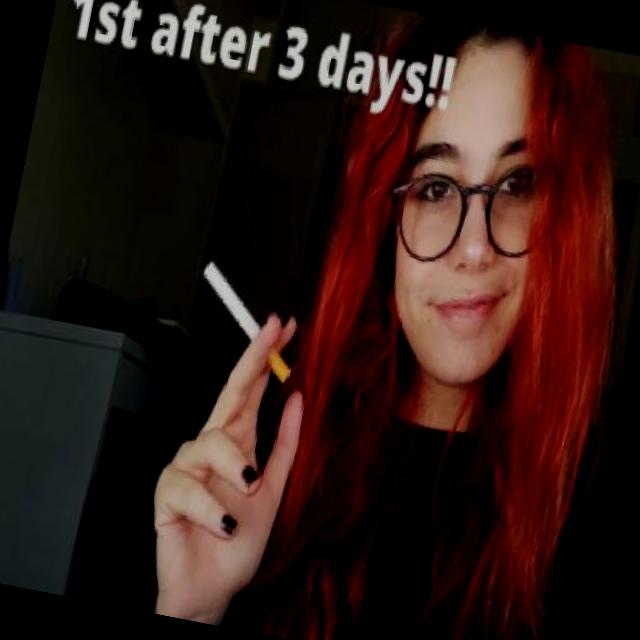smoke: (176, 244, 316, 401)
